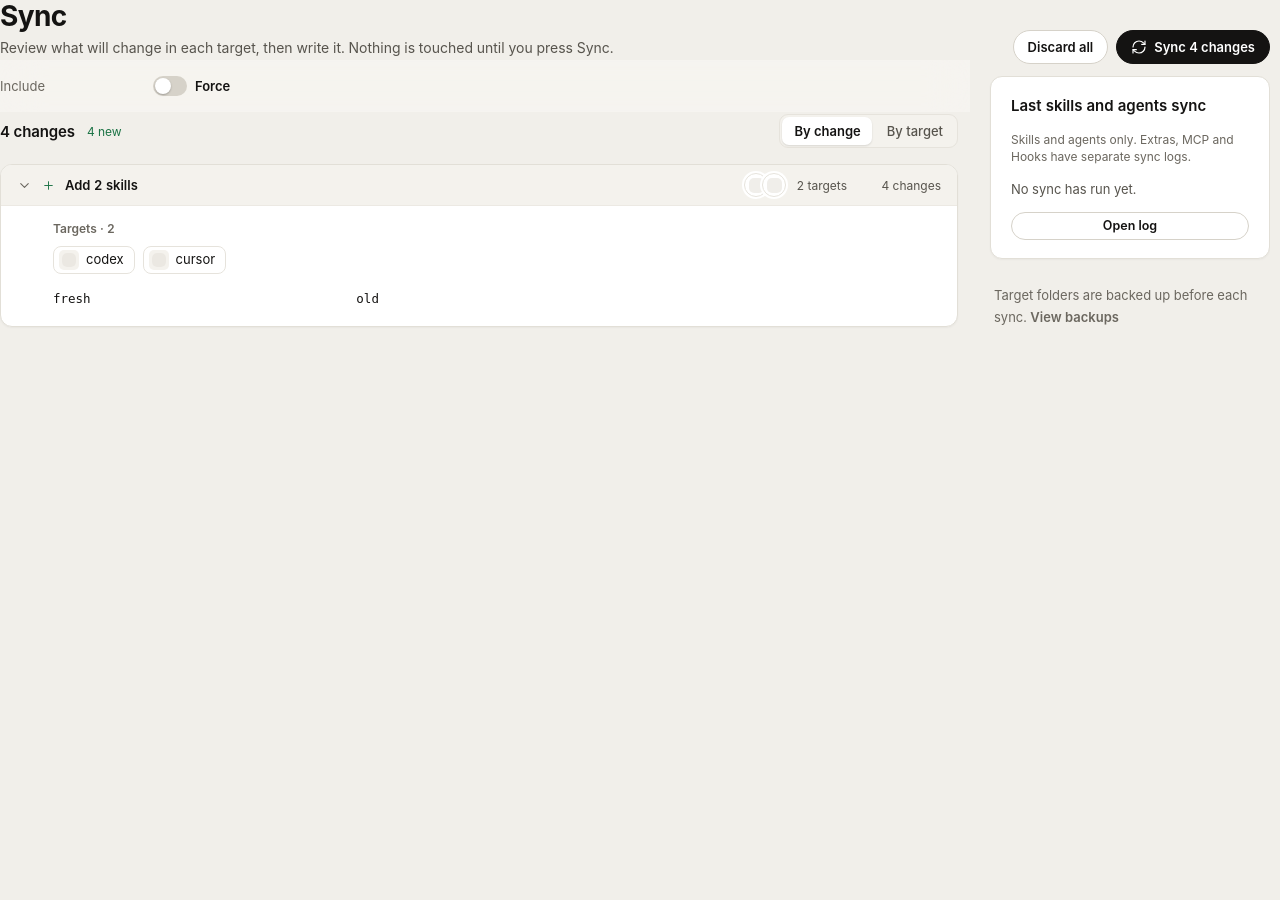
Sync page last sync › shows targets with the same changes once and offers to discard only skills never synced anywhere
Expected: the text "2 targets" is shown, [796,177,847,194]
What coordinates should you click on to do the following:
click the button "Discard all"
I would click on:
 (1060, 47)
Its box is [1013,30,1108,64].
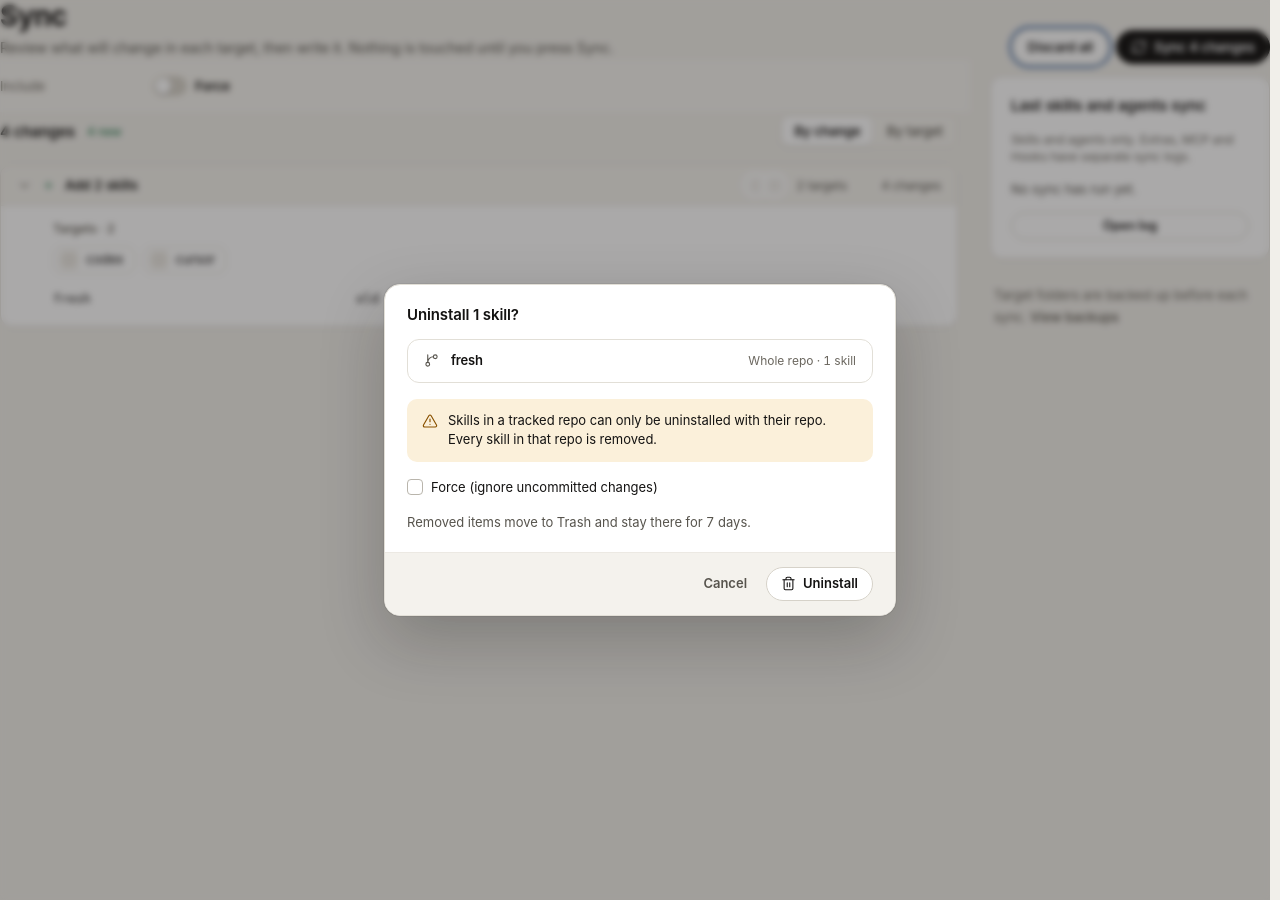
Expected: the dialog shows "fresh", [451,352,483,368]
